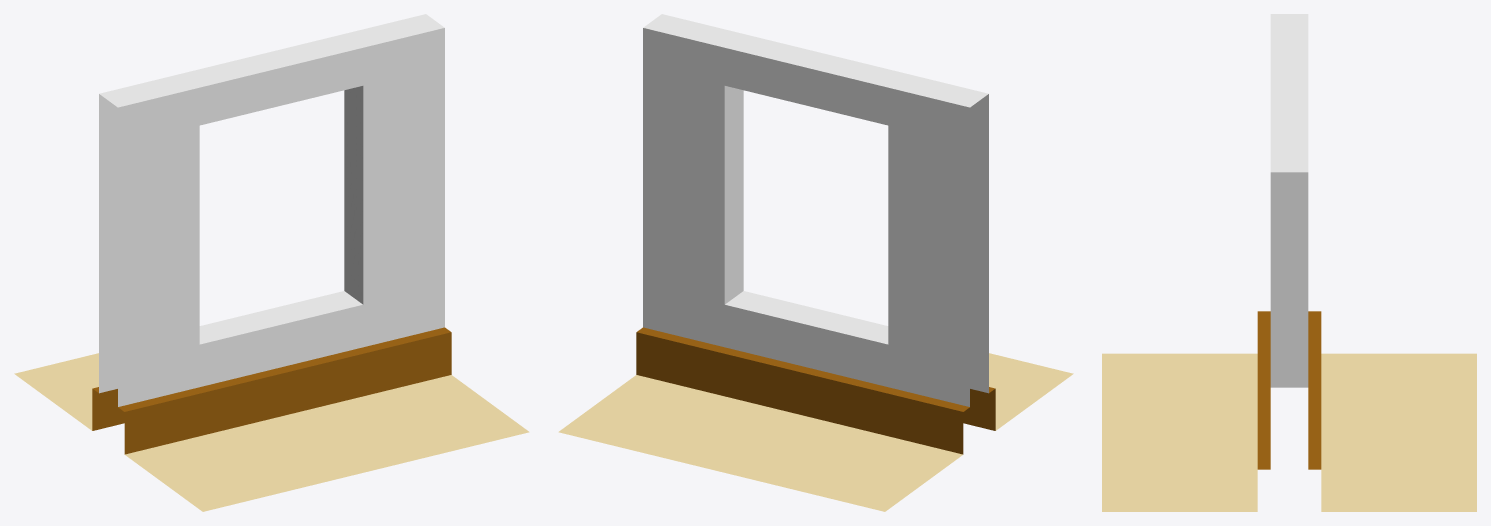
Rendered from I_Wall_Straight_Window.fbx.
3 renders of one model, left to right at view 1: azimuth 30°, elevation 25°; view 2: azimuth 150°, elevation 25°; view 3: azimuth 270°, elevation 25°, orthographic.
Parts seen in each view (by area): view 1: I_Wall_Straight_Window; view 2: I_Wall_Straight_Window; view 3: I_Wall_Straight_Window.
Boxes of the visible parts, <box> form: I_Wall_Straight_Window: <box>14,14,529,511</box>; I_Wall_Straight_Window: <box>558,14,1073,511</box>; I_Wall_Straight_Window: <box>1102,14,1476,511</box>.
Size of the model in its own units: 200 by 200 by 200.
1 material, 1 textured.
